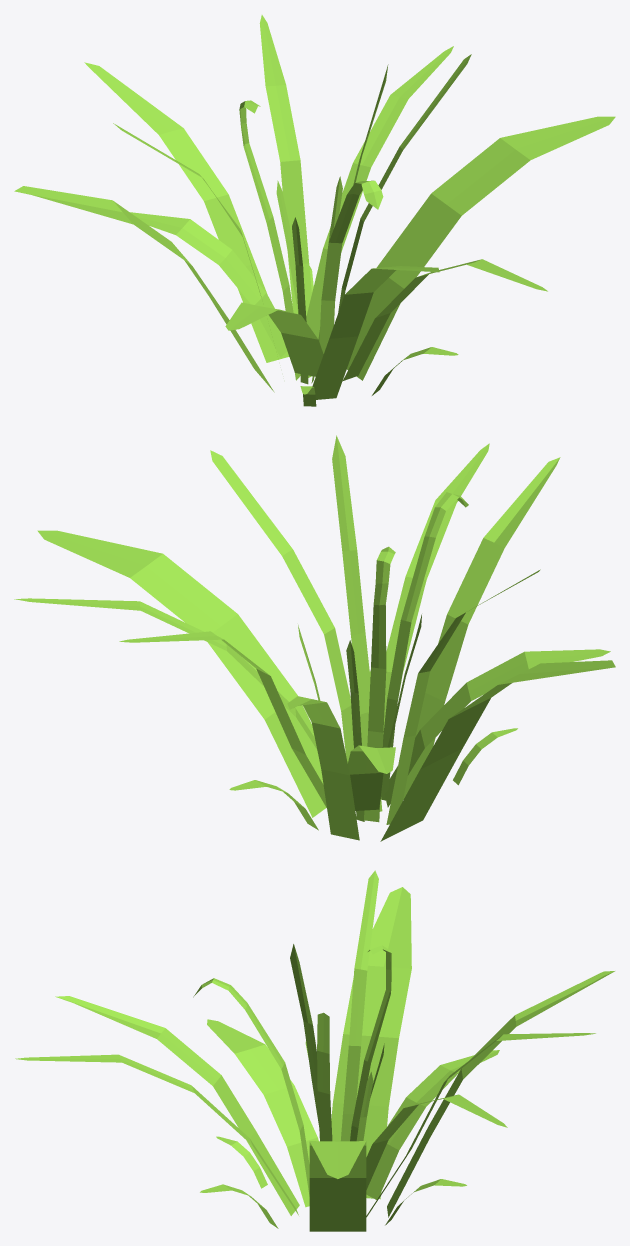
File: grass1.fbx
The picture shows the model from 3 angles, top to bottom: view 1: azimuth 30°, elevation 25°; view 2: azimuth 150°, elevation 25°; view 3: azimuth 270°, elevation 25°; orthographic projection. The views are drawn at different scales.
Parts seen in each view (by area): view 1: Grass2; view 2: Grass2; view 3: Grass2.
Boxes of the visible parts, x1,y1,x2,y2 form: Grass2: (14,15,615,406); Grass2: (14,435,615,841); Grass2: (15,870,614,1231).
Bounding box in the file's own units: 193 × 106 × 191.
